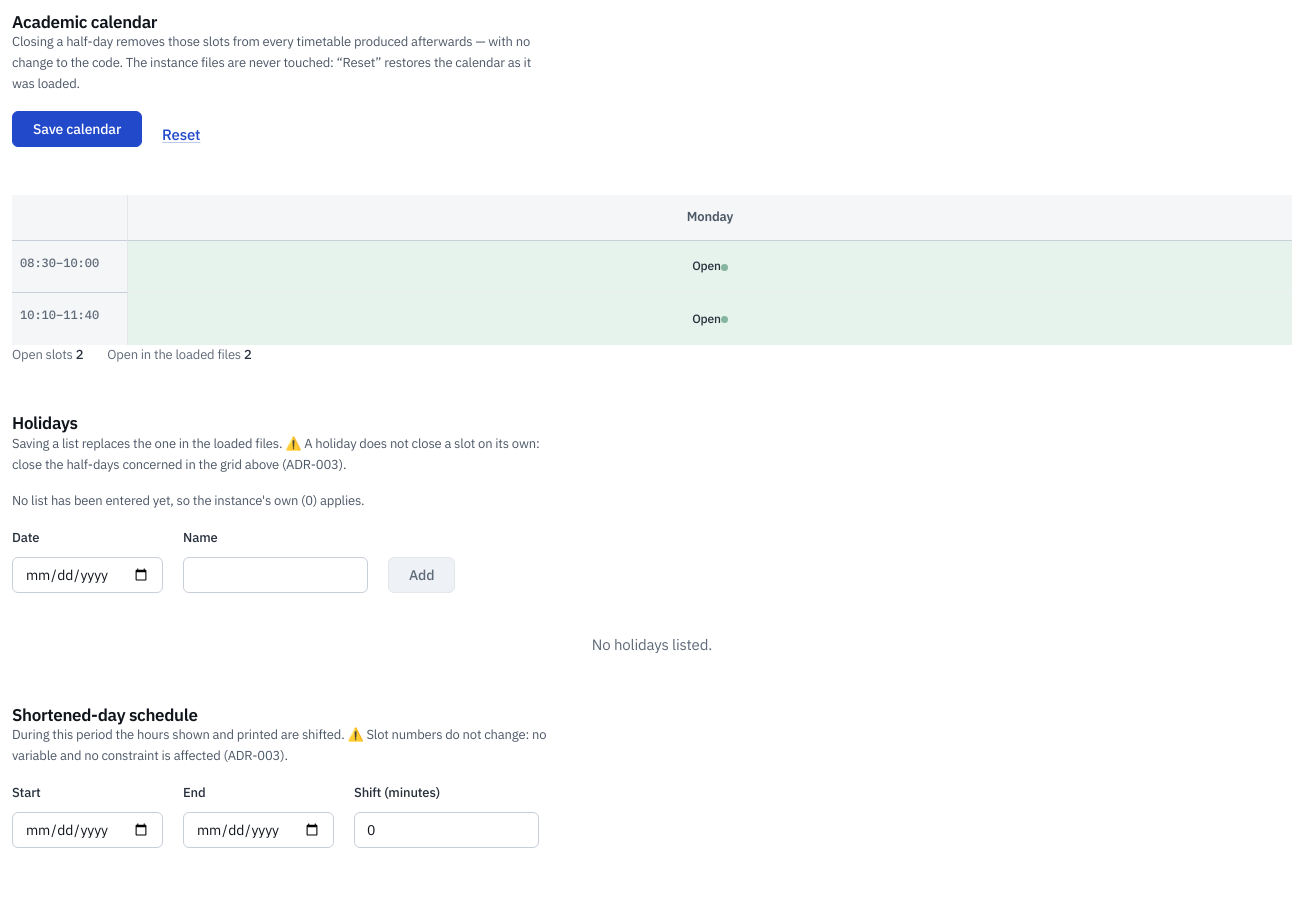
Test: what is saved › marks the form as unsaved while an edit is pending
Expected: the text "unsaved" is not shown
Click the checkbox with test id "calendar-slot-0" at {"x": 710, "y": 267}, box [128,241,1291,293]
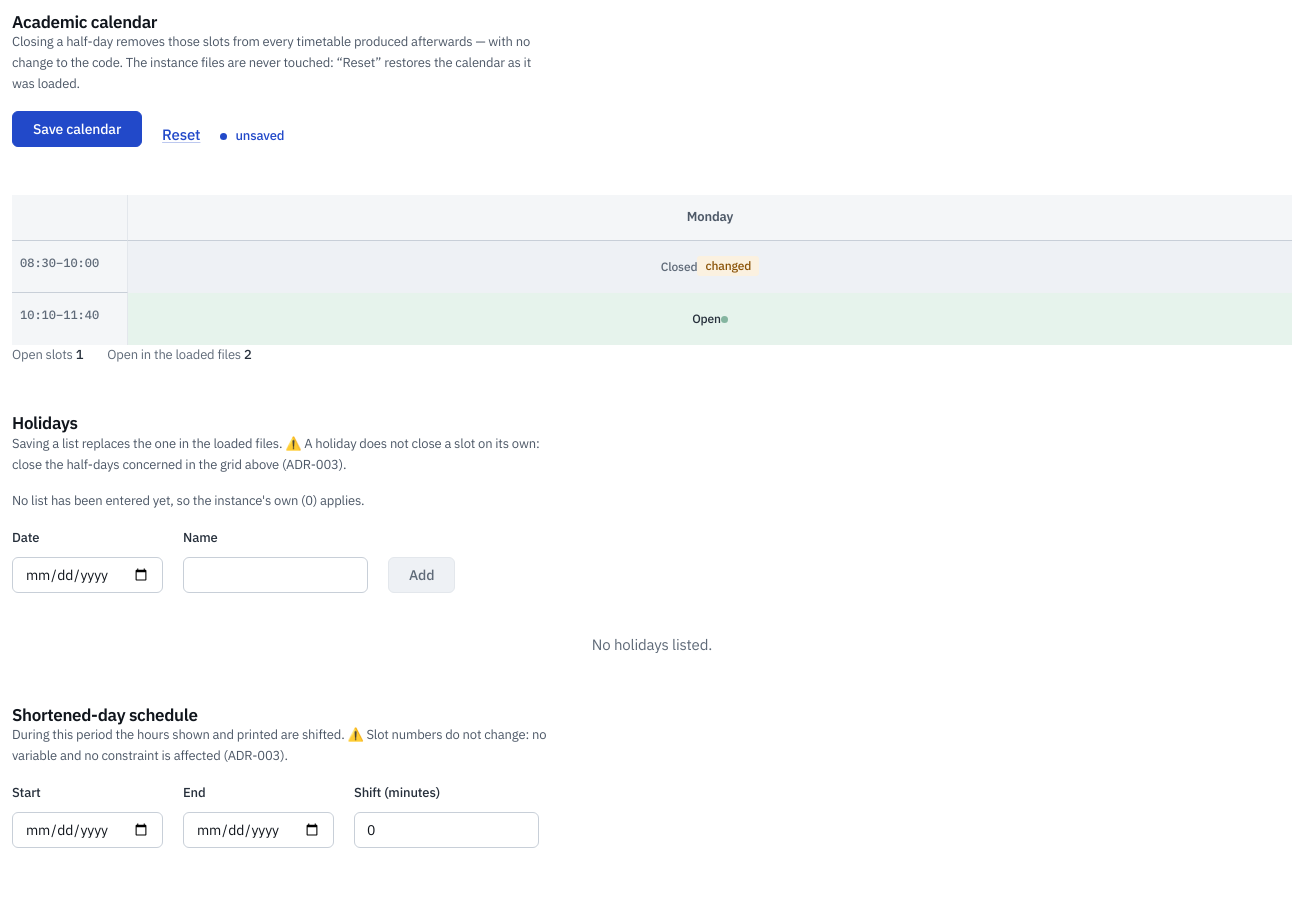
Now the text "unsaved" is shown, box [220,126,284,147]
